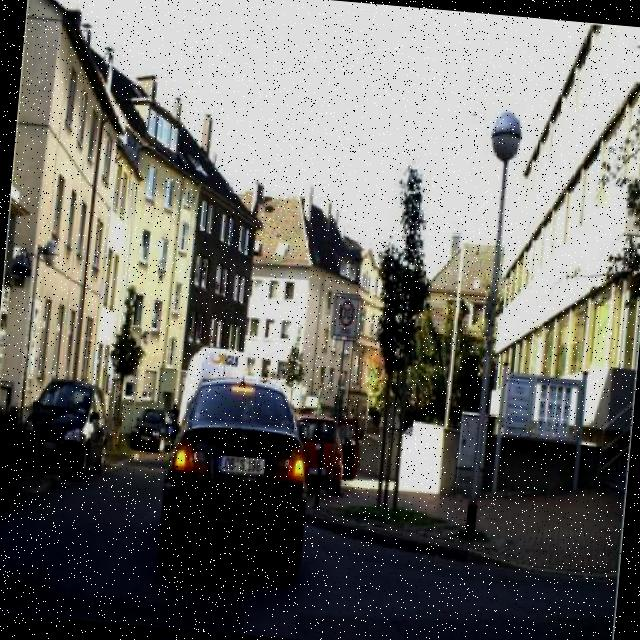Ograniczenie predkosci do 30: (337, 298, 358, 326)
